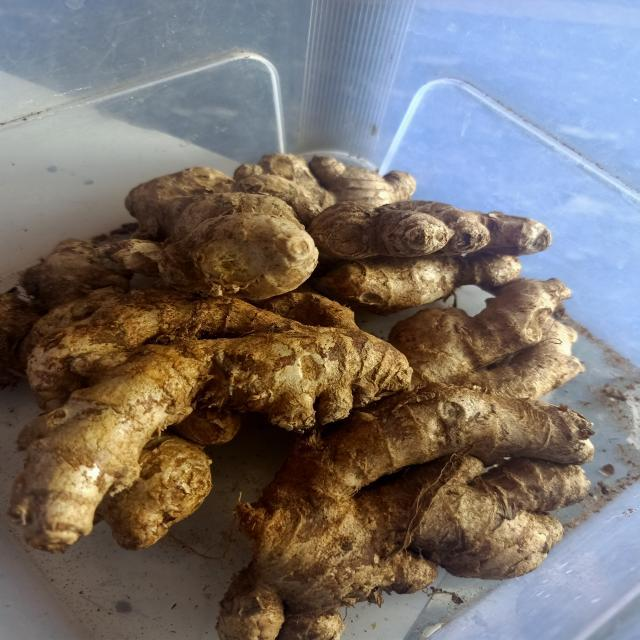Ginger: (8, 290, 412, 552), (218, 383, 593, 640)
